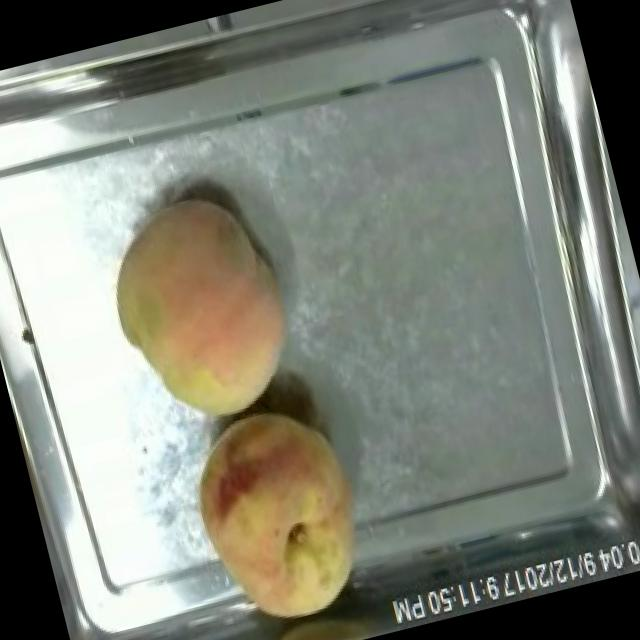Fruit: (85, 176, 318, 446), (167, 382, 391, 640)
